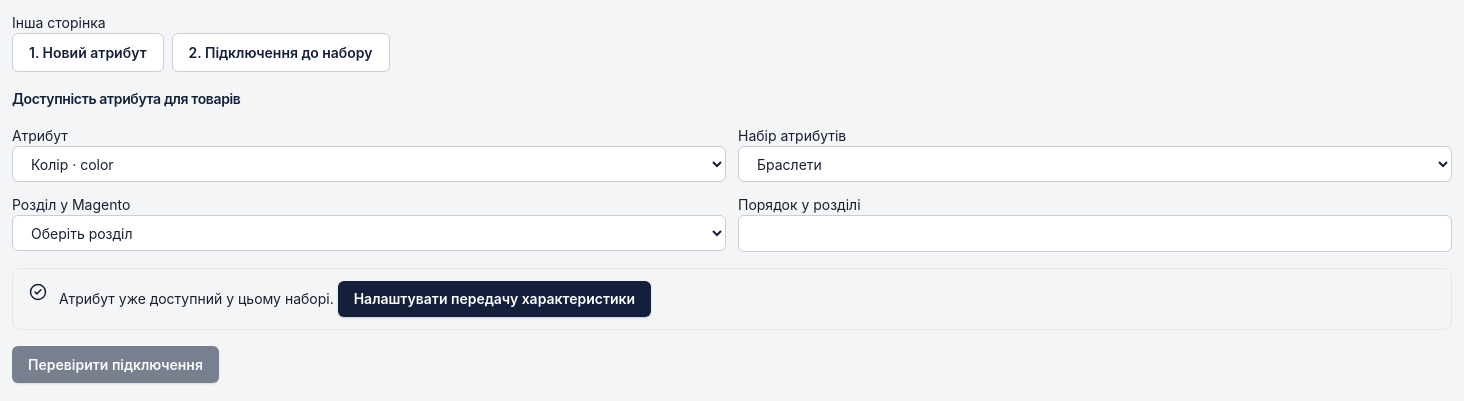
Test: changing the set hides old membership evidence until the exact new set has been read
Expected: the button "Налаштувати передачу характеристики" is shown, [338, 281, 651, 317]
Select "Інший набір" in the dropdown labelled "Набір атрибутів": [1095, 164] box [738, 146, 1452, 182]
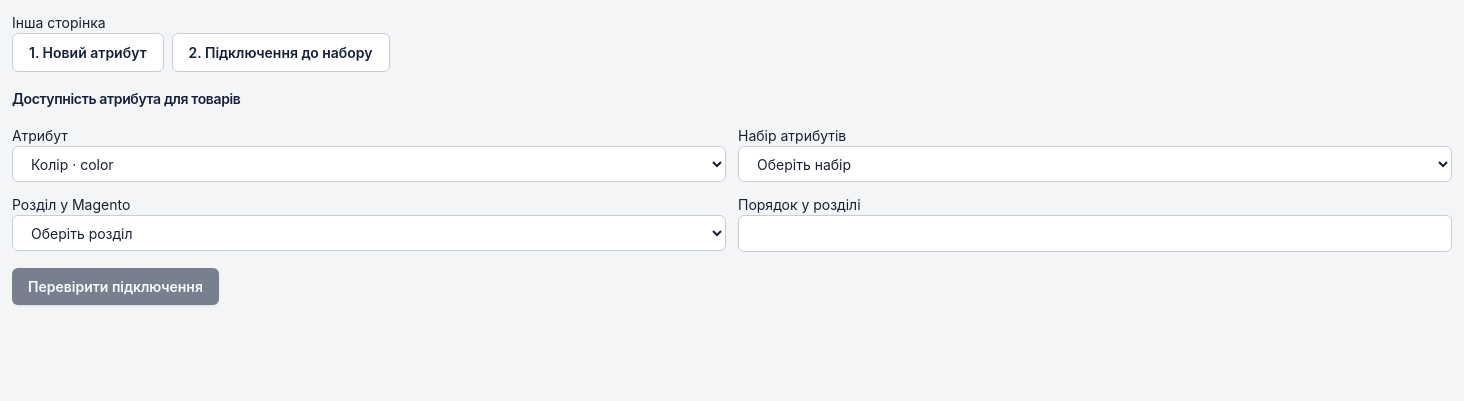
Result: the button "Налаштувати передачу характеристики" is gone
